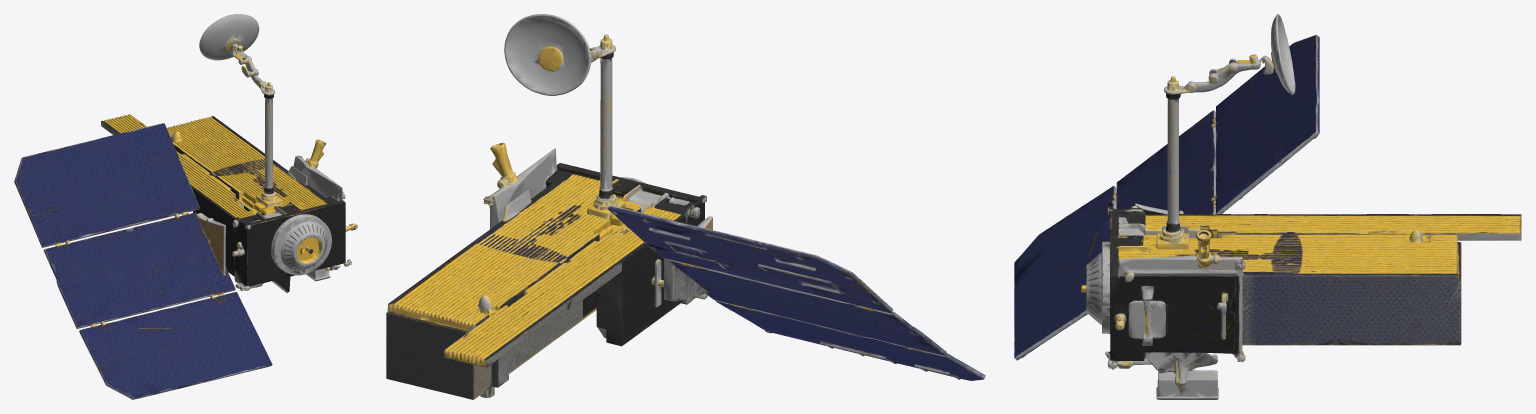
File: chandrayaan2.glb
3 views of the same model, side by side, from view 1: azimuth 30°, elevation 25°; view 2: azimuth 150°, elevation 25°; view 3: azimuth 270°, elevation 25° (orthographic). The views are drawn at different scales.
Bounding box in the file's own units: 1.69 × 1.56 × 1.9.
1 material, 1 textured.
